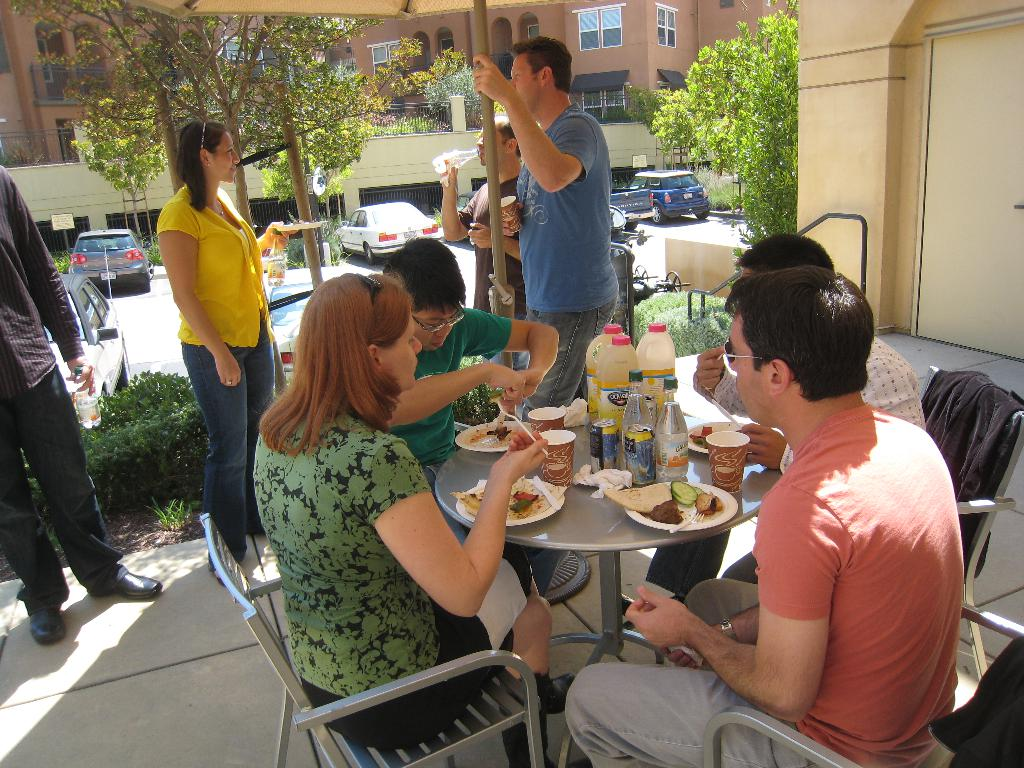Tree: (7, 0, 486, 303), (649, 0, 798, 242)
